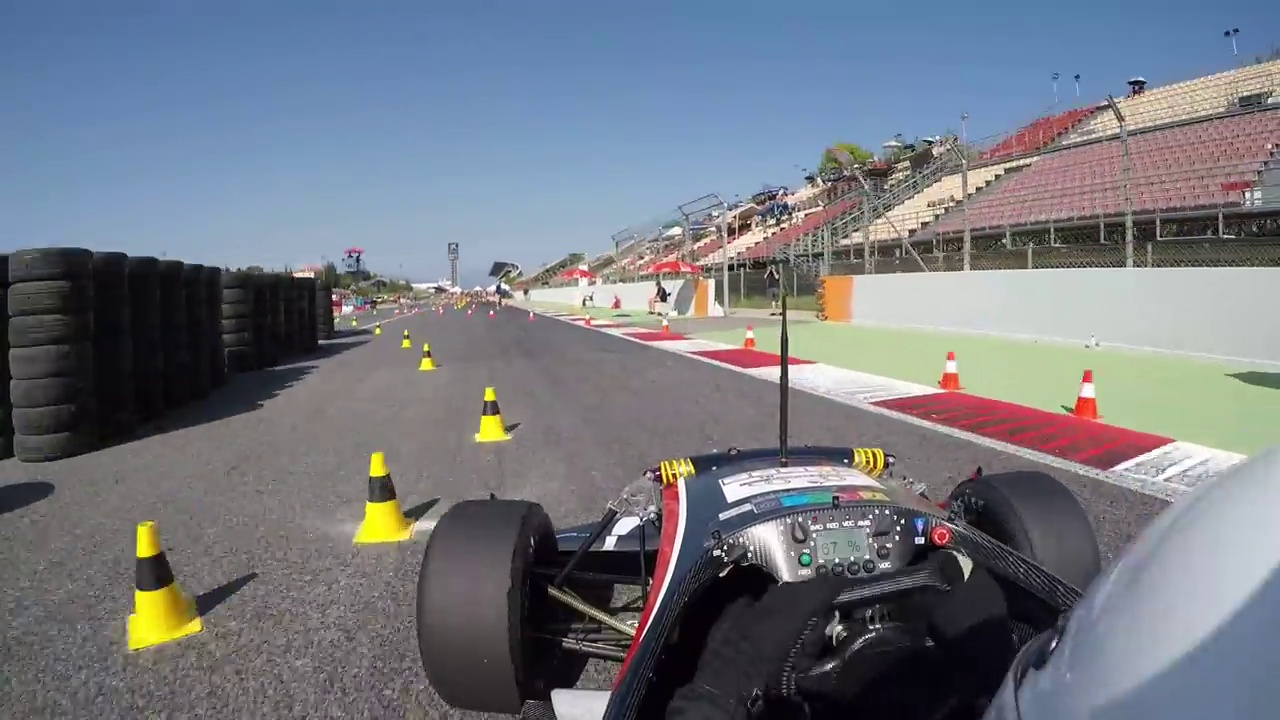Cone: (123, 517, 200, 656), (354, 448, 411, 549), (473, 385, 516, 444), (1070, 370, 1099, 422), (939, 350, 962, 391), (418, 340, 439, 375)
